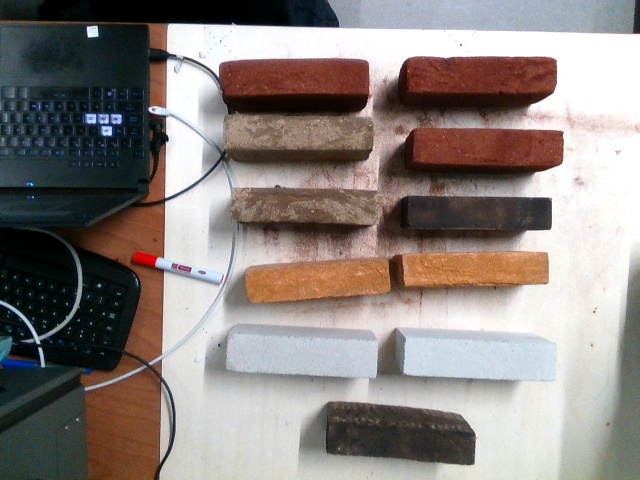brick-side: (327, 419, 478, 466), (228, 334, 378, 378), (413, 125, 562, 168), (406, 337, 555, 379), (222, 56, 370, 97), (405, 56, 554, 94), (250, 261, 391, 300), (404, 250, 549, 287), (237, 188, 379, 225), (228, 114, 373, 150), (405, 195, 554, 229)
